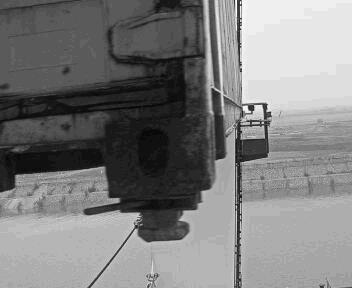twist_lock_1: (86, 187, 192, 255)
